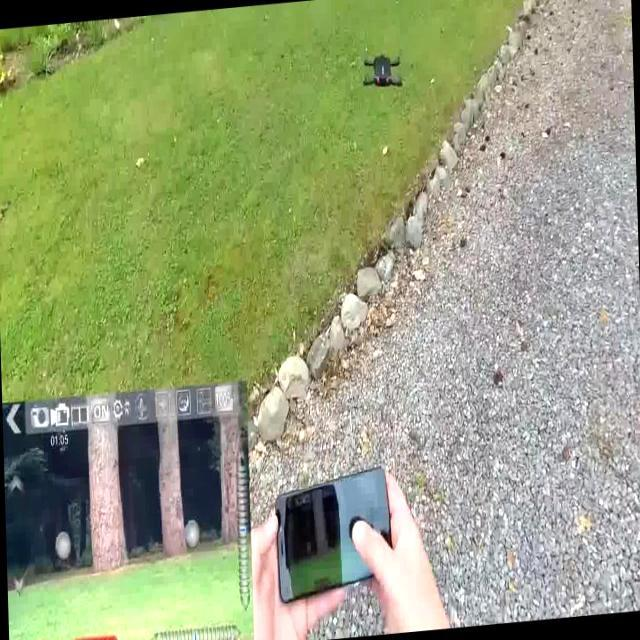drone: (357, 44, 407, 101)
